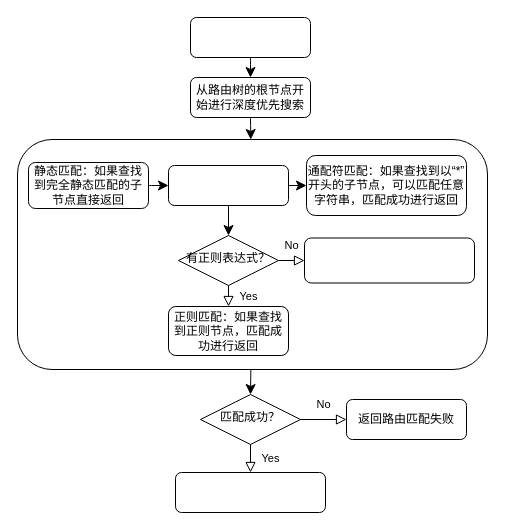
This 505x531 diagram has some shape labels left out. The centre of each missing label's shape, as x and y in pixels:
以“:”开头的路径段: the point at 228,185
参数路径匹配：如果查找到参数路径节点，匹配成功进行返回: the point at 389,260
按照“/”切割路由路径: the point at 250,37
返回路由匹配成功 以及对应的节点相关参数和注册的 HandleFunc: the point at 250,492
